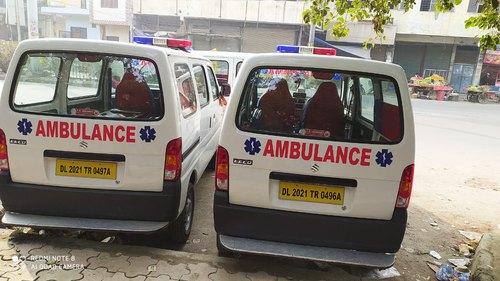-: (225, 27, 426, 267)
Emergency-Vehicles: (0, 27, 220, 245)
